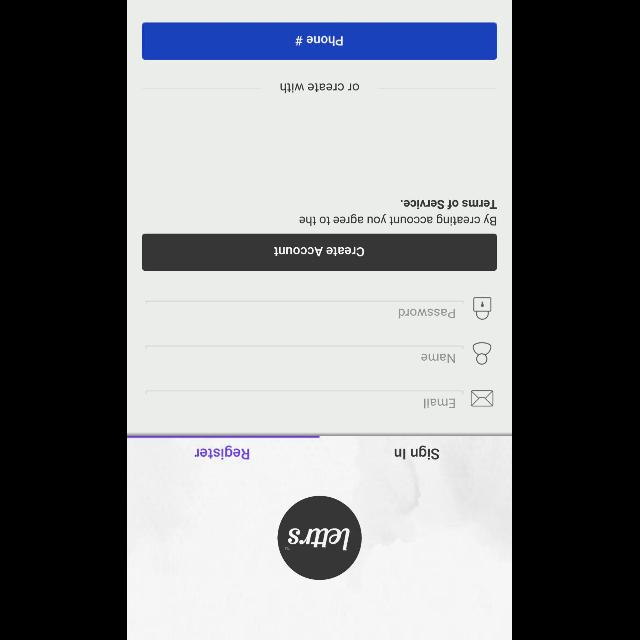icon: (474, 296, 492, 320), (473, 342, 492, 364), (472, 389, 494, 406)
image: (278, 496, 362, 580)
input: (146, 301, 464, 319), (146, 391, 464, 409), (146, 346, 464, 362)
multitab: (128, 435, 512, 471)
text: (300, 200, 498, 227), (282, 82, 361, 94), (196, 446, 250, 460), (396, 445, 440, 459), (400, 308, 456, 318), (424, 398, 456, 408), (422, 353, 456, 362)
textbutton: (142, 22, 498, 60), (142, 233, 498, 270)
